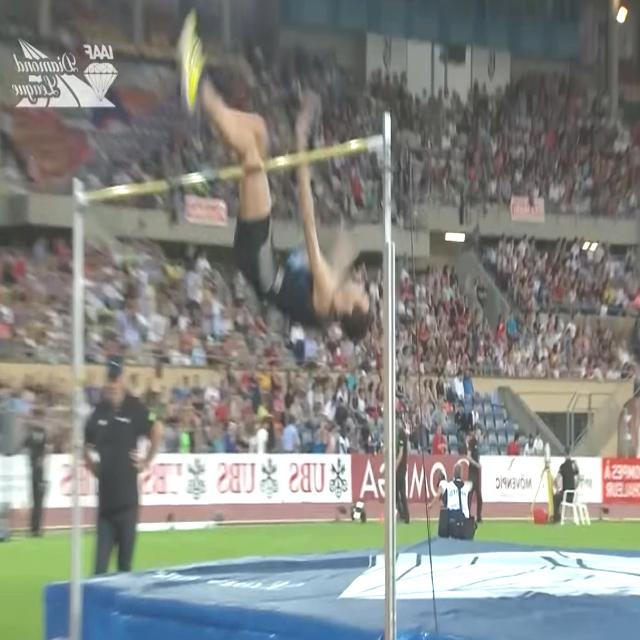land: (182, 9, 370, 341)
